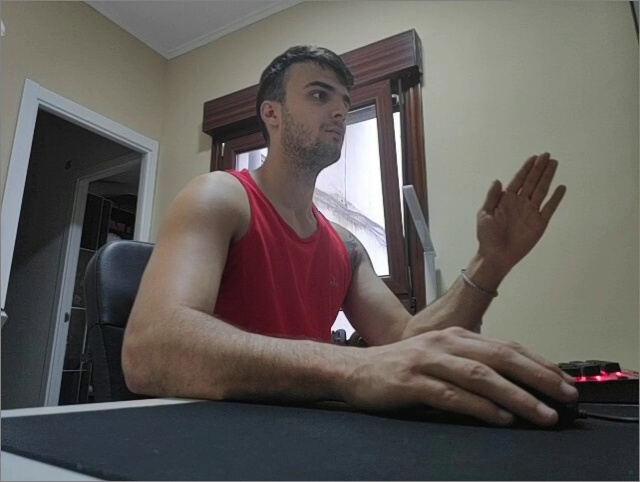Palm: (474, 151, 568, 254)
